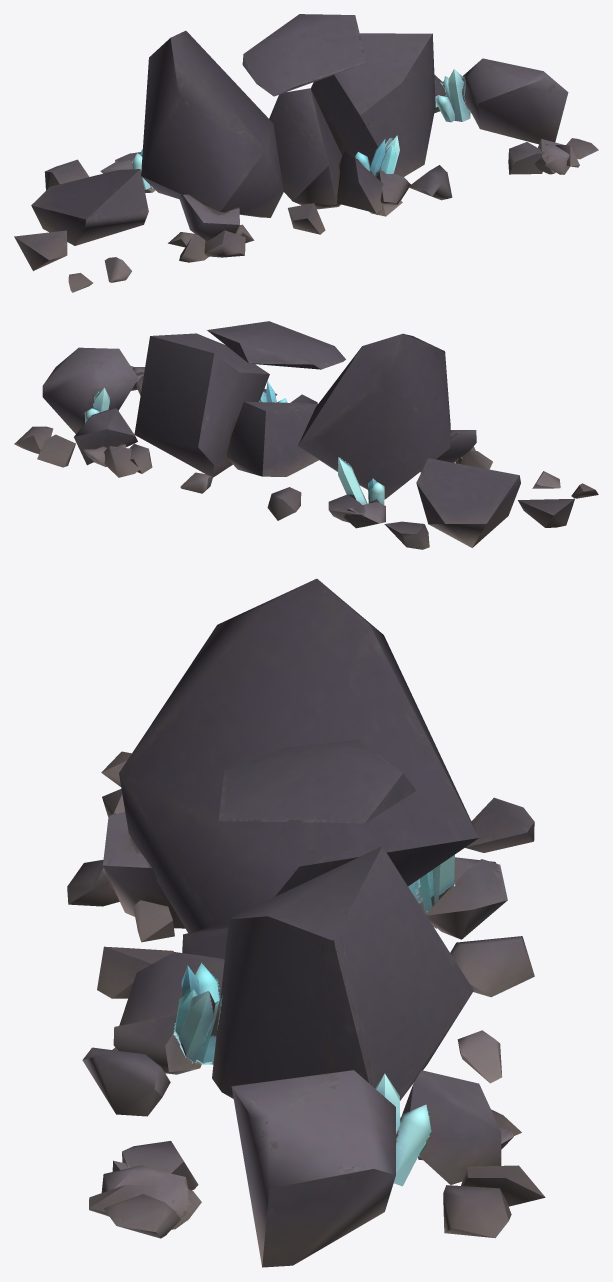
File: ridge-cave.hq.glb
The picture shows the model from 3 angles, top to bottom: view 1: azimuth 30°, elevation 25°; view 2: azimuth 150°, elevation 25°; view 3: azimuth 270°, elevation 25°; orthographic projection. The views are drawn at different scales.
Parts seen in each view (by area): view 1: ridge-cave; view 2: ridge-cave; view 3: ridge-cave.
Part boxes in pixels (bbox=[...]): ridge-cave: bbox=[14, 14, 598, 292]; ridge-cave: bbox=[14, 321, 598, 549]; ridge-cave: bbox=[67, 578, 545, 1267].
Size of the model in its own units: 2.99 by 0.9925 by 1.22.
1 material, 1 textured.
